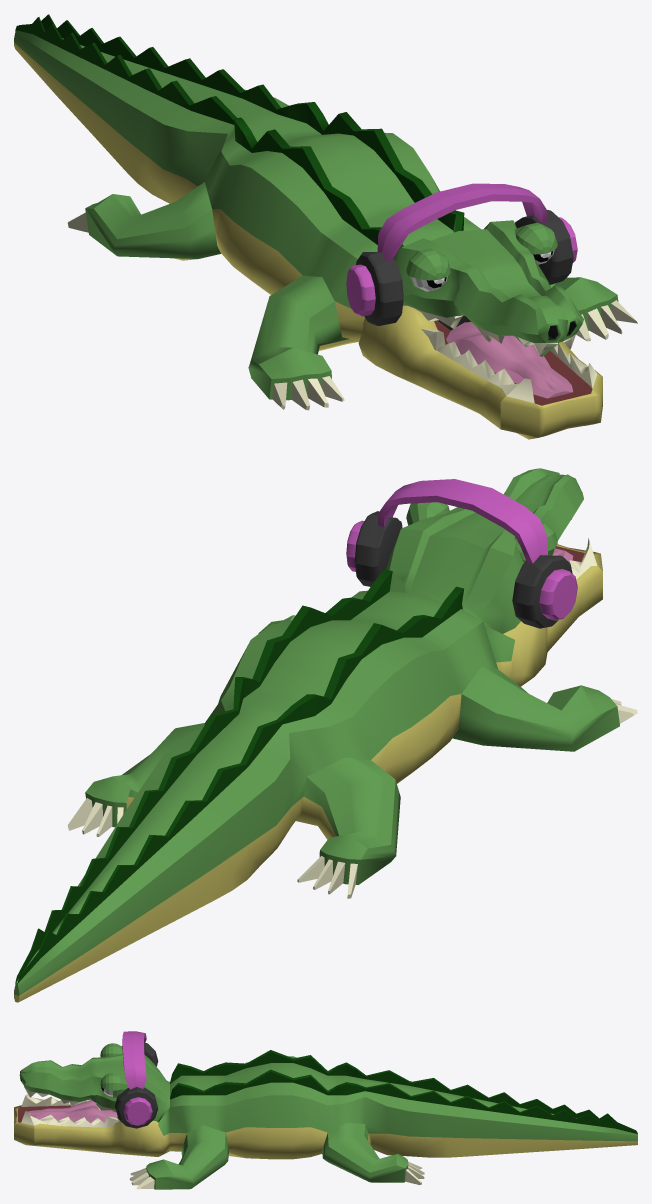
Rendered from wani.fbx.
3 views of the same model, one above another, from view 1: azimuth 30°, elevation 25°; view 2: azimuth 150°, elevation 25°; view 3: azimuth 270°, elevation 25° (orthographic). The views are drawn at different scales.
Parts seen in each view (by area): view 1: body, headset1, eyes_; view 2: body, headset1, eyes_; view 3: body, headset1, eyes_.
Boxes of the visible parts, bbox=[...] form: body: bbox=[14, 14, 637, 439]; headset1: bbox=[346, 183, 577, 325]; eyes_: bbox=[406, 222, 557, 291]; body: bbox=[14, 468, 637, 1002]; headset1: bbox=[346, 479, 577, 628]; eyes_: bbox=[406, 502, 557, 562]; body: bbox=[14, 1050, 637, 1189]; headset1: bbox=[114, 1031, 158, 1128]; eyes_: bbox=[100, 1043, 128, 1097].
Size of the model in its own units: 14.15 by 7.15 by 38.29.
